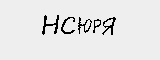Н: (40, 14, 61, 37)
Р: (93, 14, 101, 38)
С: (61, 15, 76, 37)
Ю: (77, 16, 93, 38)
Я: (99, 14, 117, 39)
